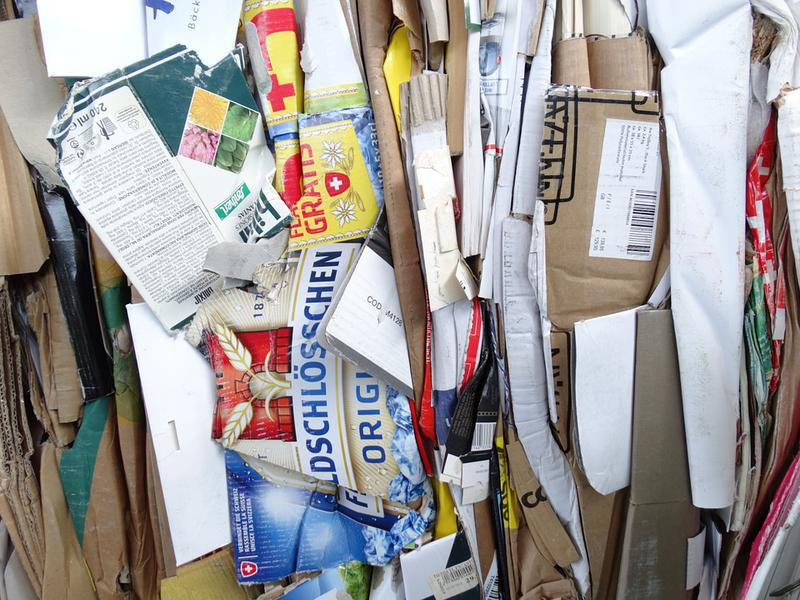cardboard: (198, 243, 452, 581), (557, 298, 706, 600), (537, 76, 668, 328)
paper: (40, 57, 285, 324)
